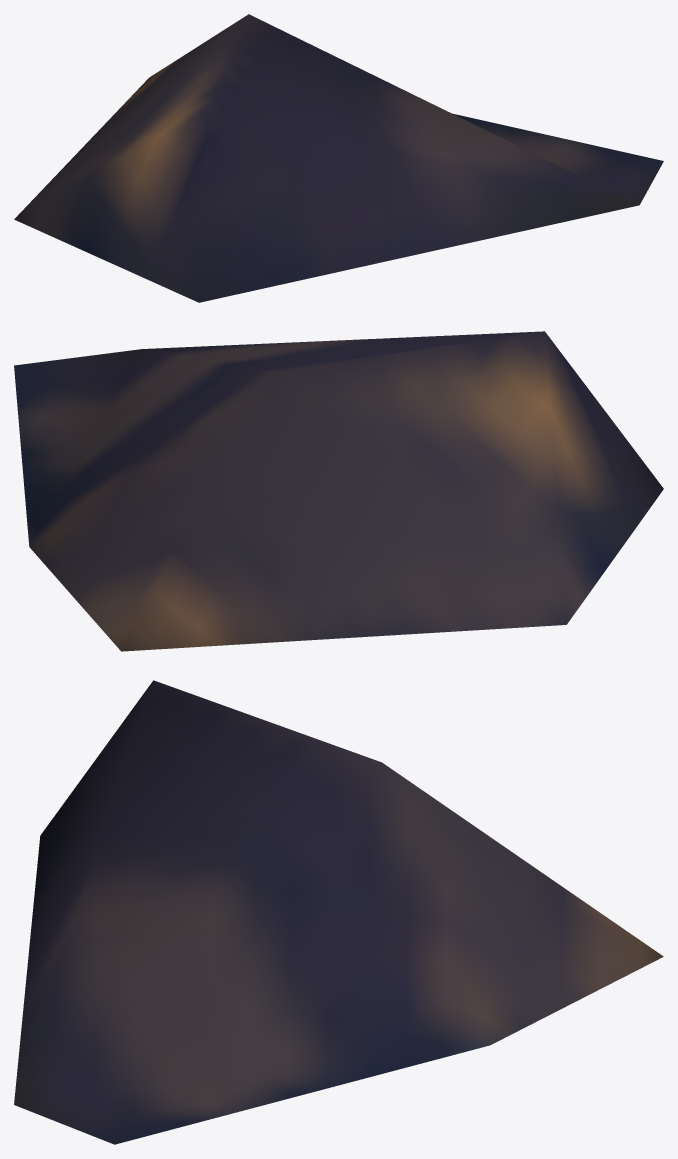
File: HuBian_NightShitou10_fbx.FBX
The picture shows the model from 3 angles, top to bottom: view 1: azimuth 30°, elevation 25°; view 2: azimuth 150°, elevation 25°; view 3: azimuth 270°, elevation 25°; orthographic projection. The views are drawn at different scales.
Visible parts, largest first — view 1: Object076; view 2: Object076; view 3: Object076.
Part boxes in pixels (x1,y1,x2,y2): Object076: [14, 14, 663, 302]; Object076: [14, 331, 663, 651]; Object076: [14, 680, 663, 1144].
Size of the model in its own units: 0.5572 by 0.1425 by 0.447.
